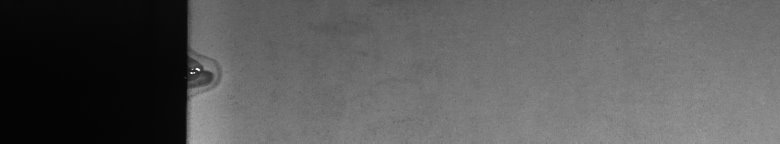hb: (196, 49, 228, 100)
